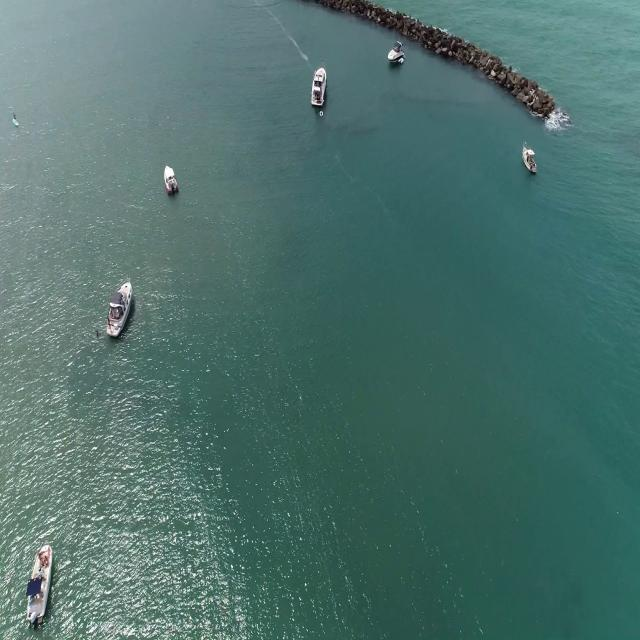boat: (26, 544, 54, 622), (103, 284, 132, 347), (309, 63, 331, 112), (388, 41, 409, 74), (163, 164, 181, 198), (521, 144, 538, 176)
life_buoy: (318, 111, 326, 122)
person: (12, 112, 16, 122)
surfboard: (11, 118, 20, 128)
